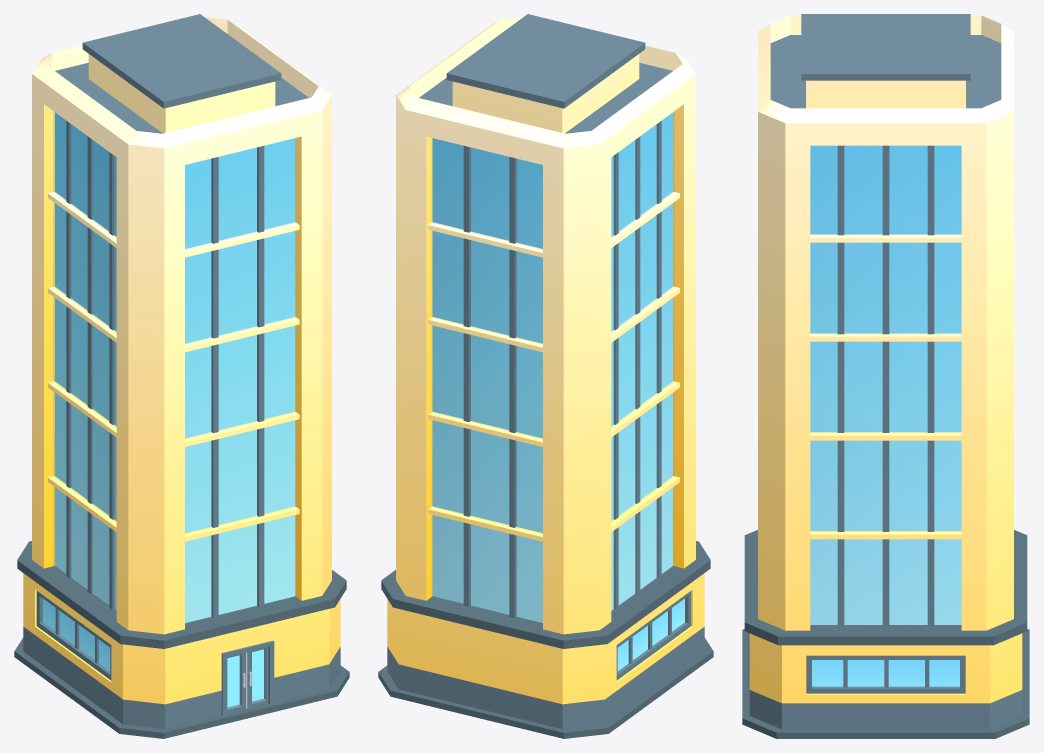
Rendered from city2-building-living-46.glb.
3 views of the same model, side by side, from view 1: azimuth 30°, elevation 25°; view 2: azimuth 150°, elevation 25°; view 3: azimuth 270°, elevation 25° (orthographic). The views are drawn at different scales.
Parts seen in each view (by area): view 1: Building_Living_46; view 2: Building_Living_46; view 3: Building_Living_46.
Part boxes in pixels (bbox=[...]): Building_Living_46: bbox=[14, 14, 349, 738]; Building_Living_46: bbox=[378, 14, 713, 738]; Building_Living_46: bbox=[742, 14, 1029, 738].
Size of the model in its own units: 8.92 by 22.58 by 9.23.
Materials: 2 (2 with a texture image).
